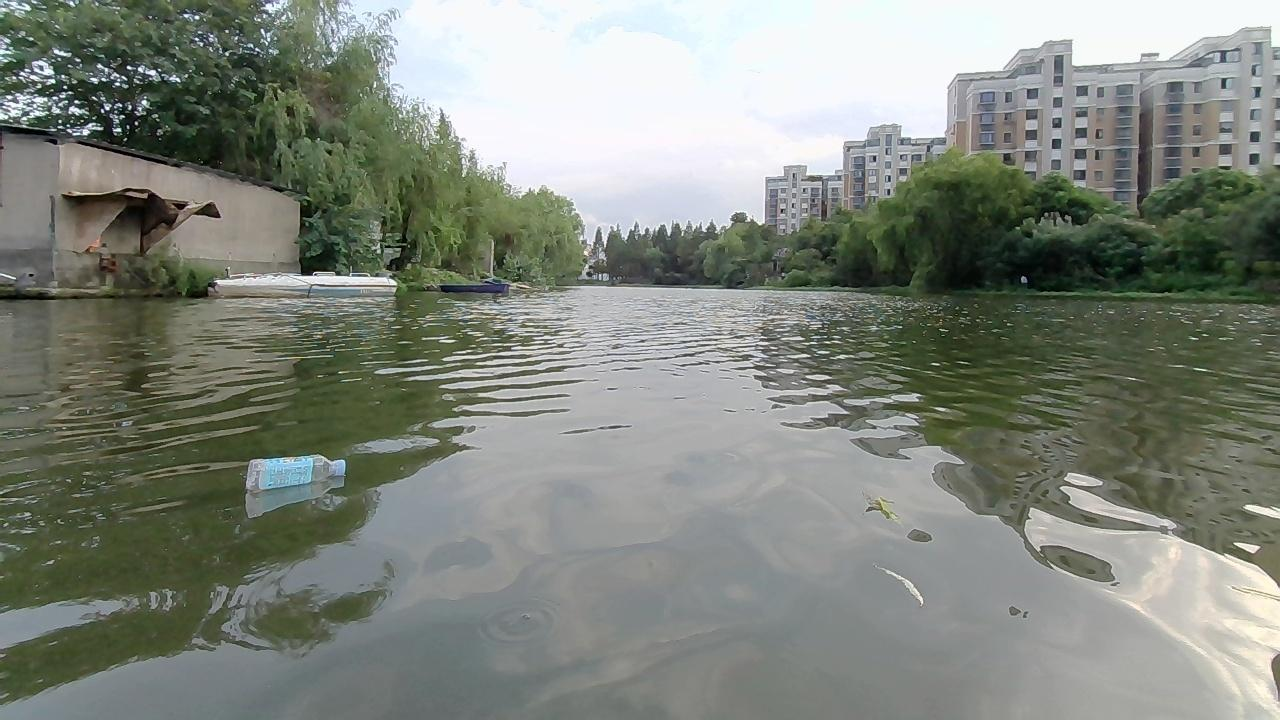bottle: (243, 450, 349, 492)
